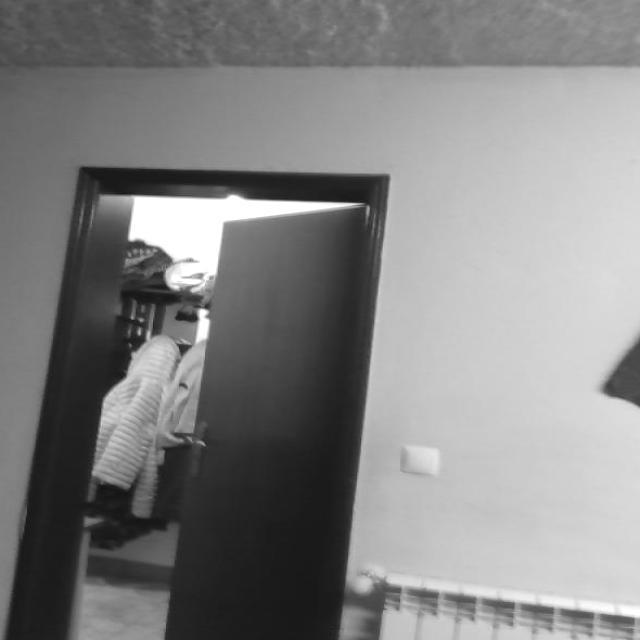door: (159, 198, 367, 640)
